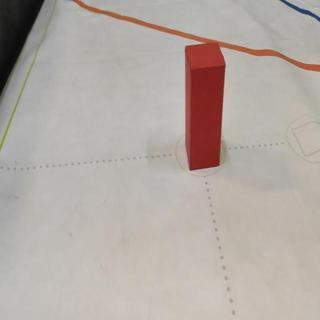redbox: (184, 41, 226, 172)
